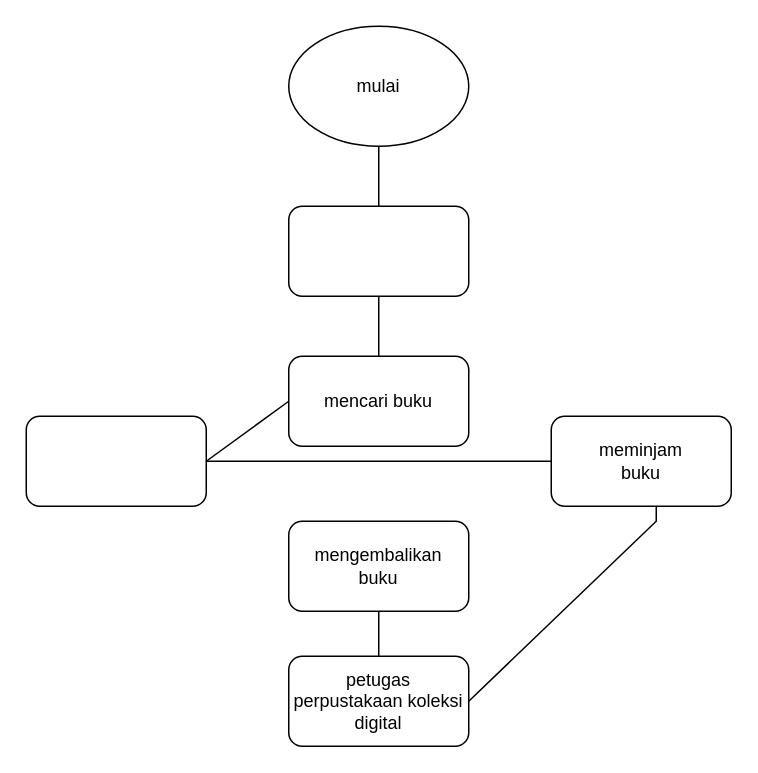
Image size: 758x773. Some labels were removed from this diagram. Each missing label, with the centre of its shape:
membaca buku: pixel 115 460
mengisi daftar hadir perpus: pixel 378 250
